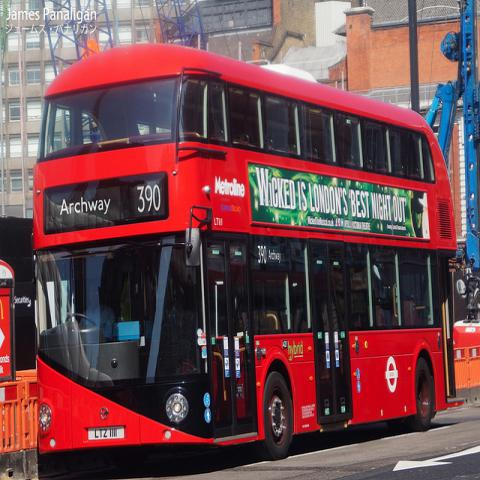bus: (35, 40, 470, 470)
